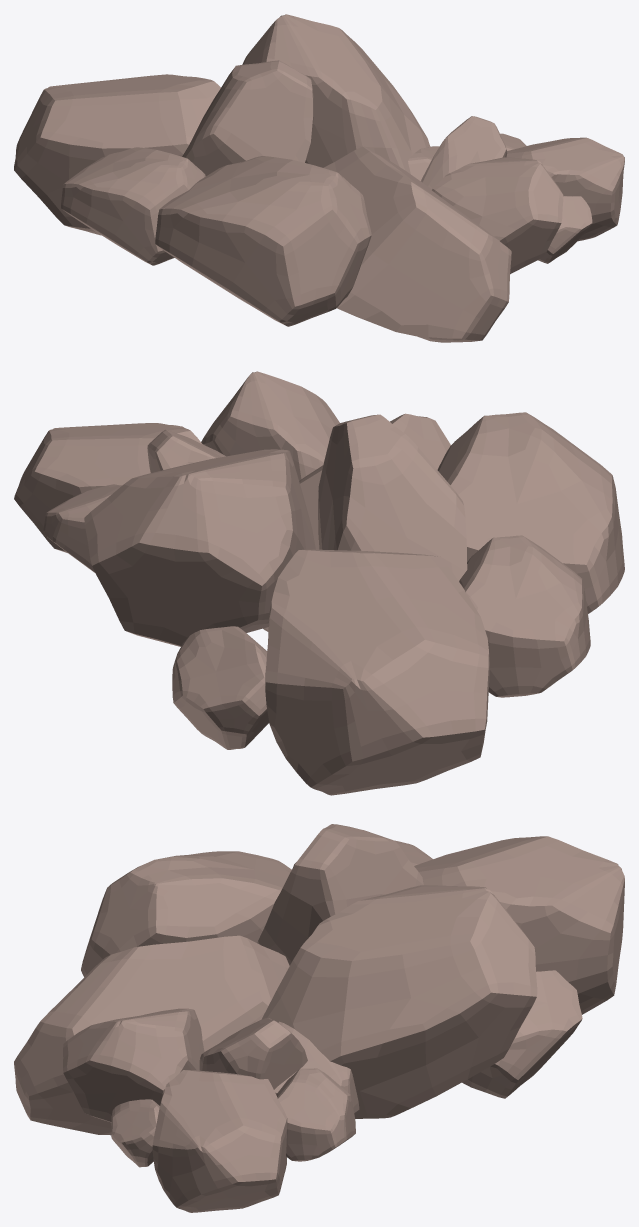
The model's file is GroupMiddleRock.fbx.
3 renders of one model, top to bottom at view 1: azimuth 30°, elevation 25°; view 2: azimuth 150°, elevation 25°; view 3: azimuth 270°, elevation 25°, orthographic. The views are drawn at different scales.
Parts seen in each view (by area): view 1: BigRoks_1.014, BigRoks_1.004, BigRoks_1.005, BigRoks_1.015, BigRoks_1.003, BigRoks_1.013, BigRoks_1.010, BigRoks_1.008, BigRoks_1.009, BigRoks_1.012, BigRoks_1.006; view 2: BigRoks_1.005, BigRoks_1.015, BigRoks_1.014, BigRoks_1.003, BigRoks_1.013, BigRoks_1.016, BigRoks_1.008, BigRoks_1.010, BigRoks_1.007, BigRoks_1.004, BigRoks_1.009; view 3: BigRoks_1.015, BigRoks_1.004, BigRoks_1.005, BigRoks_1.008, BigRoks_1.014, BigRoks_1.010, BigRoks_1.003, BigRoks_1.016, BigRoks_1.007, BigRoks_1.009, BigRoks_1.012, BigRoks_1.006.
Boxes of the visible parts, left/top/right/bottom form: BigRoks_1.014: left=155, top=156, right=371, bottom=326; BigRoks_1.004: left=323, top=146, right=511, bottom=342; BigRoks_1.005: left=14, top=74, right=220, bottom=235; BigRoks_1.015: left=242, top=14, right=430, bottom=174; BigRoks_1.003: left=182, top=60, right=313, bottom=176; BigRoks_1.013: left=61, top=147, right=205, bottom=265; BigRoks_1.010: left=432, top=157, right=563, bottom=274; BigRoks_1.008: left=506, top=137, right=624, bottom=241; BigRoks_1.009: left=421, top=116, right=507, bottom=188; BigRoks_1.012: left=538, top=196, right=592, bottom=263; BigRoks_1.006: left=408, top=146, right=439, bottom=180; BigRoks_1.005: left=265, top=549, right=489, bottom=795; BigRoks_1.015: left=84, top=449, right=315, bottom=646; BigRoks_1.014: left=437, top=412, right=624, bottom=613; BigRoks_1.003: left=318, top=414, right=467, bottom=581; BigRoks_1.013: left=459, top=535, right=590, bottom=697; BigRoks_1.016: left=172, top=626, right=269, bottom=749; BigRoks_1.008: left=14, top=423, right=201, bottom=552; BigRoks_1.010: left=201, top=371, right=339, bottom=480; BigRoks_1.007: left=43, top=484, right=121, bottom=573; BigRoks_1.004: left=299, top=413, right=450, bottom=549; BigRoks_1.009: left=147, top=429, right=225, bottom=472; BigRoks_1.015: left=261, top=885, right=537, bottom=1118; BigRoks_1.004: left=14, top=935, right=289, bottom=1135; BigRoks_1.005: left=414, top=836, right=624, bottom=1014; BigRoks_1.008: left=152, top=1070, right=287, bottom=1212; BigRoks_1.014: left=81, top=851, right=291, bottom=977; BigRoks_1.010: left=63, top=1008, right=204, bottom=1122; BigRoks_1.003: left=257, top=824, right=423, bottom=965; BigRoks_1.016: left=462, top=970, right=582, bottom=1098; BigRoks_1.007: left=276, top=1068, right=355, bottom=1161; BigRoks_1.009: left=199, top=1018, right=307, bottom=1089; BigRoks_1.012: left=111, top=1099, right=159, bottom=1167; BigRoks_1.006: left=274, top=1021, right=359, bottom=1113.
Size of the model in its own units: 579 by 256 by 529.
